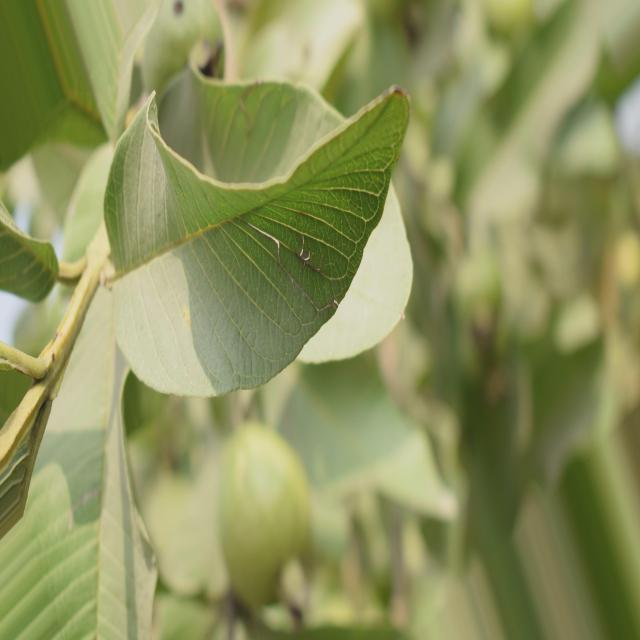Mummification: (104, 68, 409, 396)
